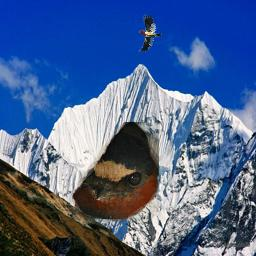Swallow: (72, 122, 159, 222)
Woodpecker: (138, 14, 163, 53)
